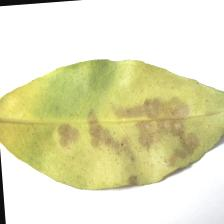canker: (45, 86, 198, 173)
